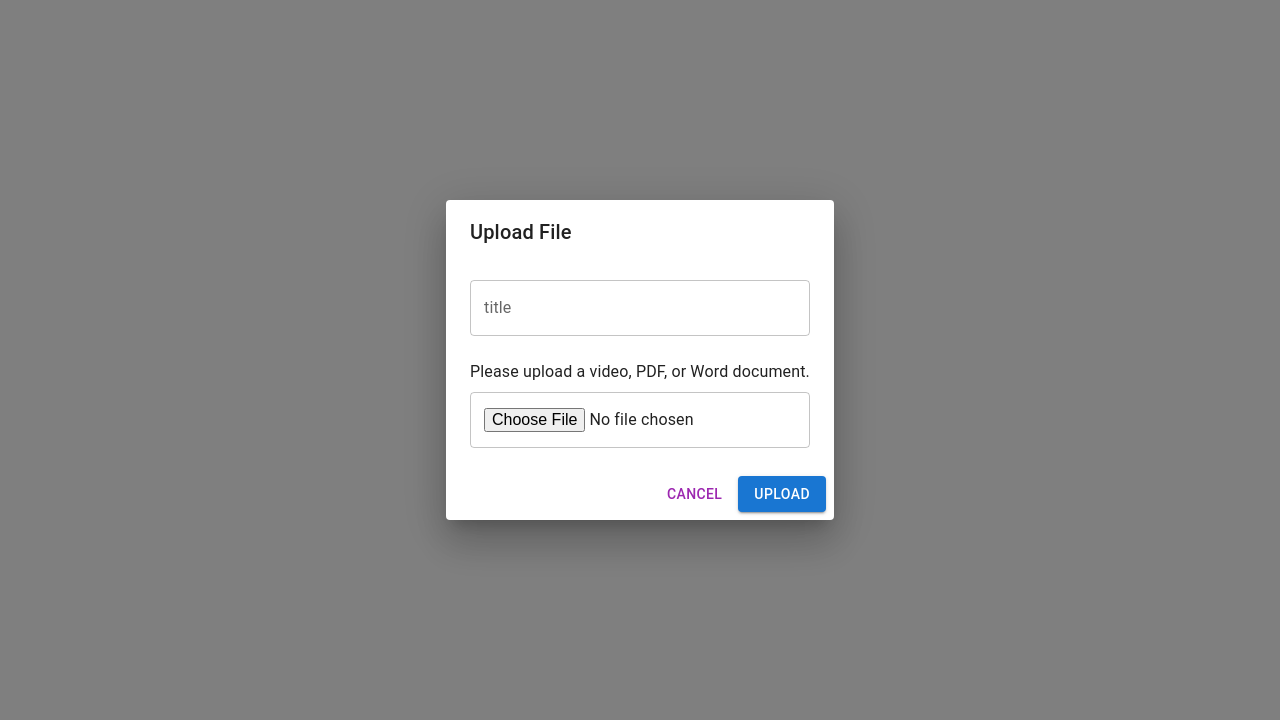
Test: UploadFileDialog › displays an error message when no file is selected
The image size is (1280, 720).
Assume the title is filled but no file is selected
Type "Valid Title" into the field labelled "title".
click(640, 308); type("Valid Title")  # box [470,280,810,336]
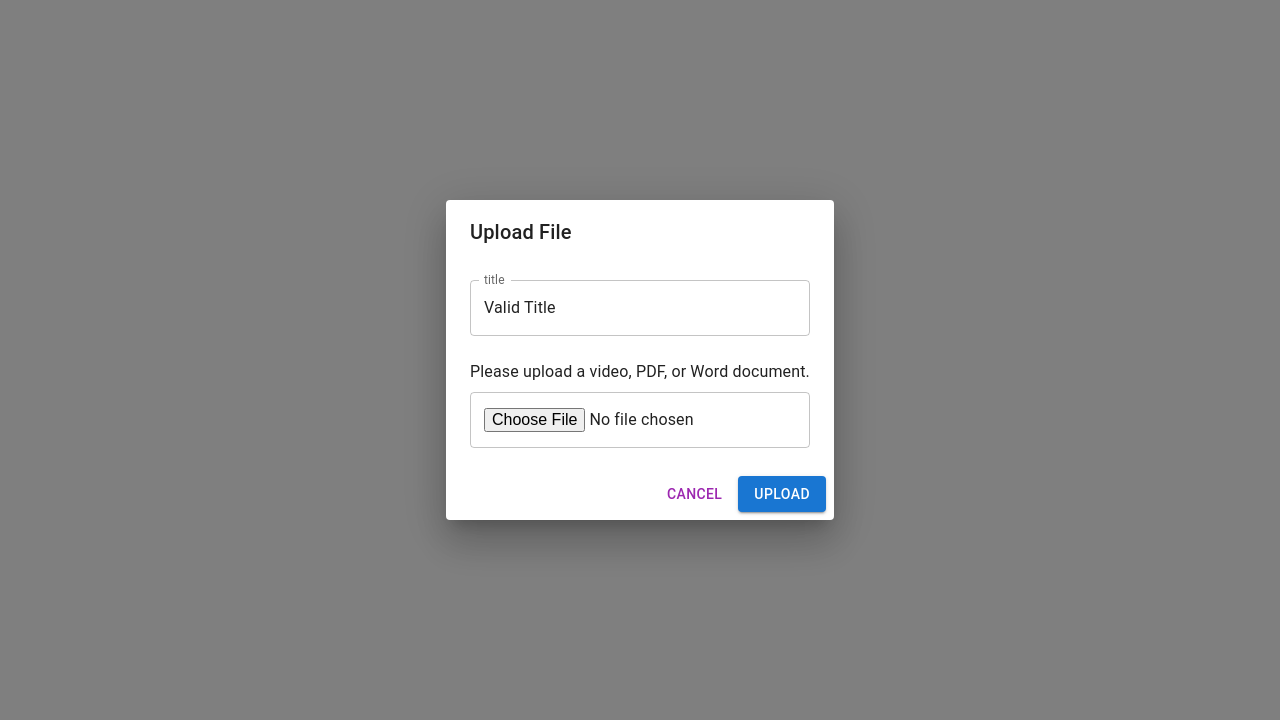
Click the button "Upload".
click(782, 494)  # box [738,476,826,512]
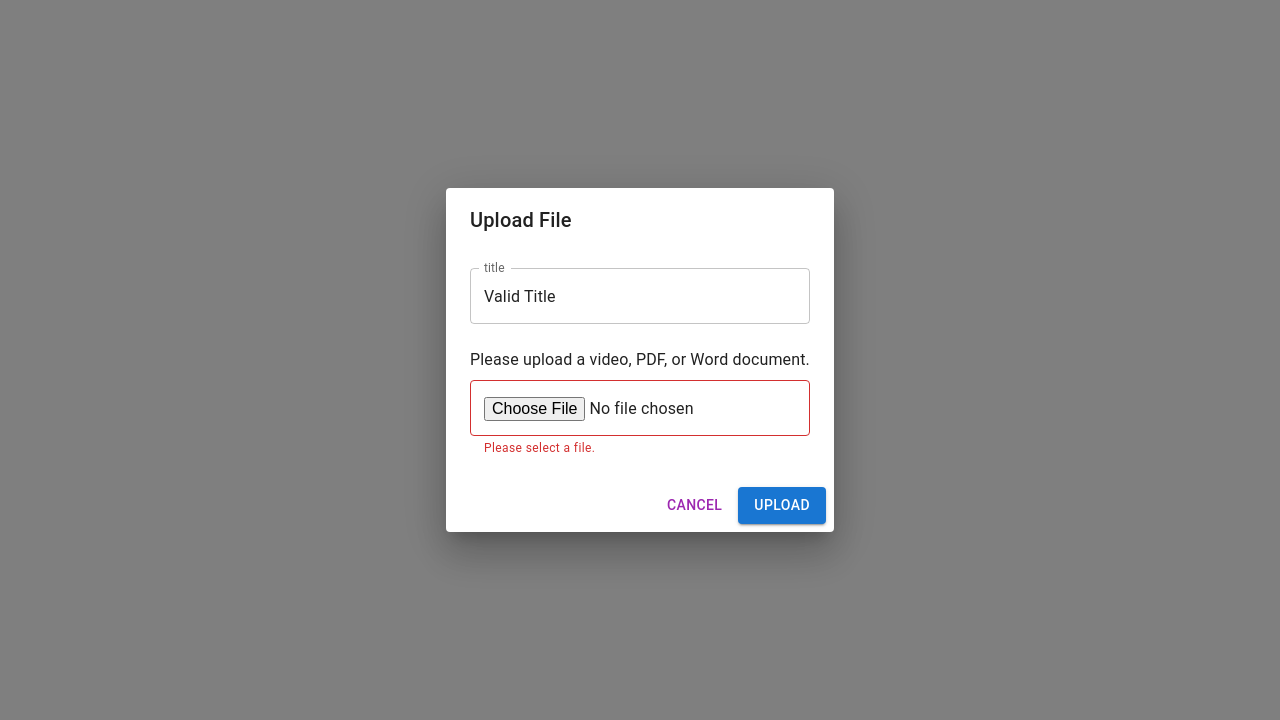
Now the text "Please select a file." is shown, box [484,441,595,455]
